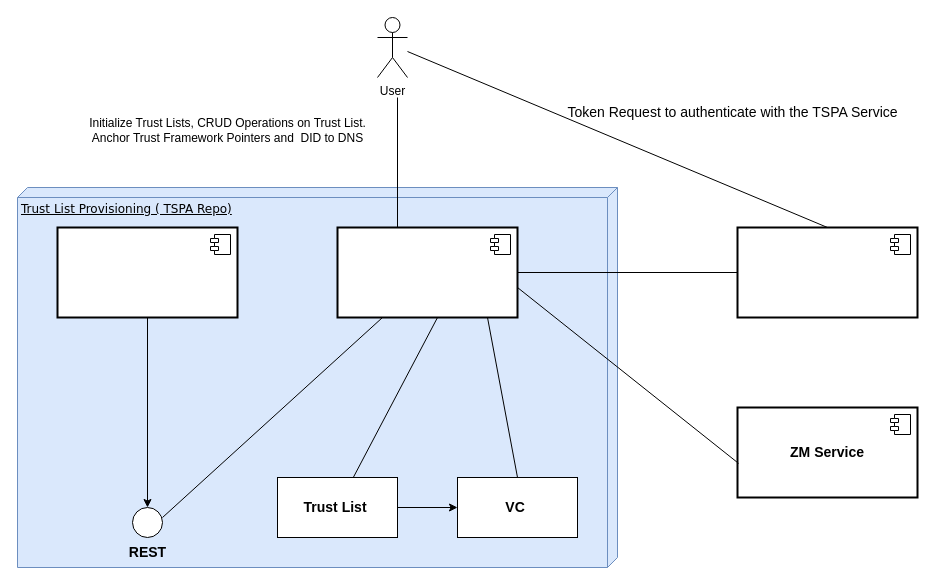
This 936x585 diagram has some shape labels left out. The centre of each missing label's shape, as x and y in pixels:
"Oauth2.0/OIDC Server" goes at pixel 827 272.
"«Java» TSPA Backend" goes at pixel 427 272.
"«React» TSPA Frontend" goes at pixel 147 272.
